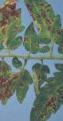Tomato Septoria leaf spot: (21, 0, 63, 54), (26, 65, 63, 121), (0, 0, 25, 53), (13, 60, 31, 104), (23, 20, 39, 55)
